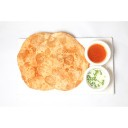poori: (37, 31, 85, 91), (16, 31, 45, 89)
